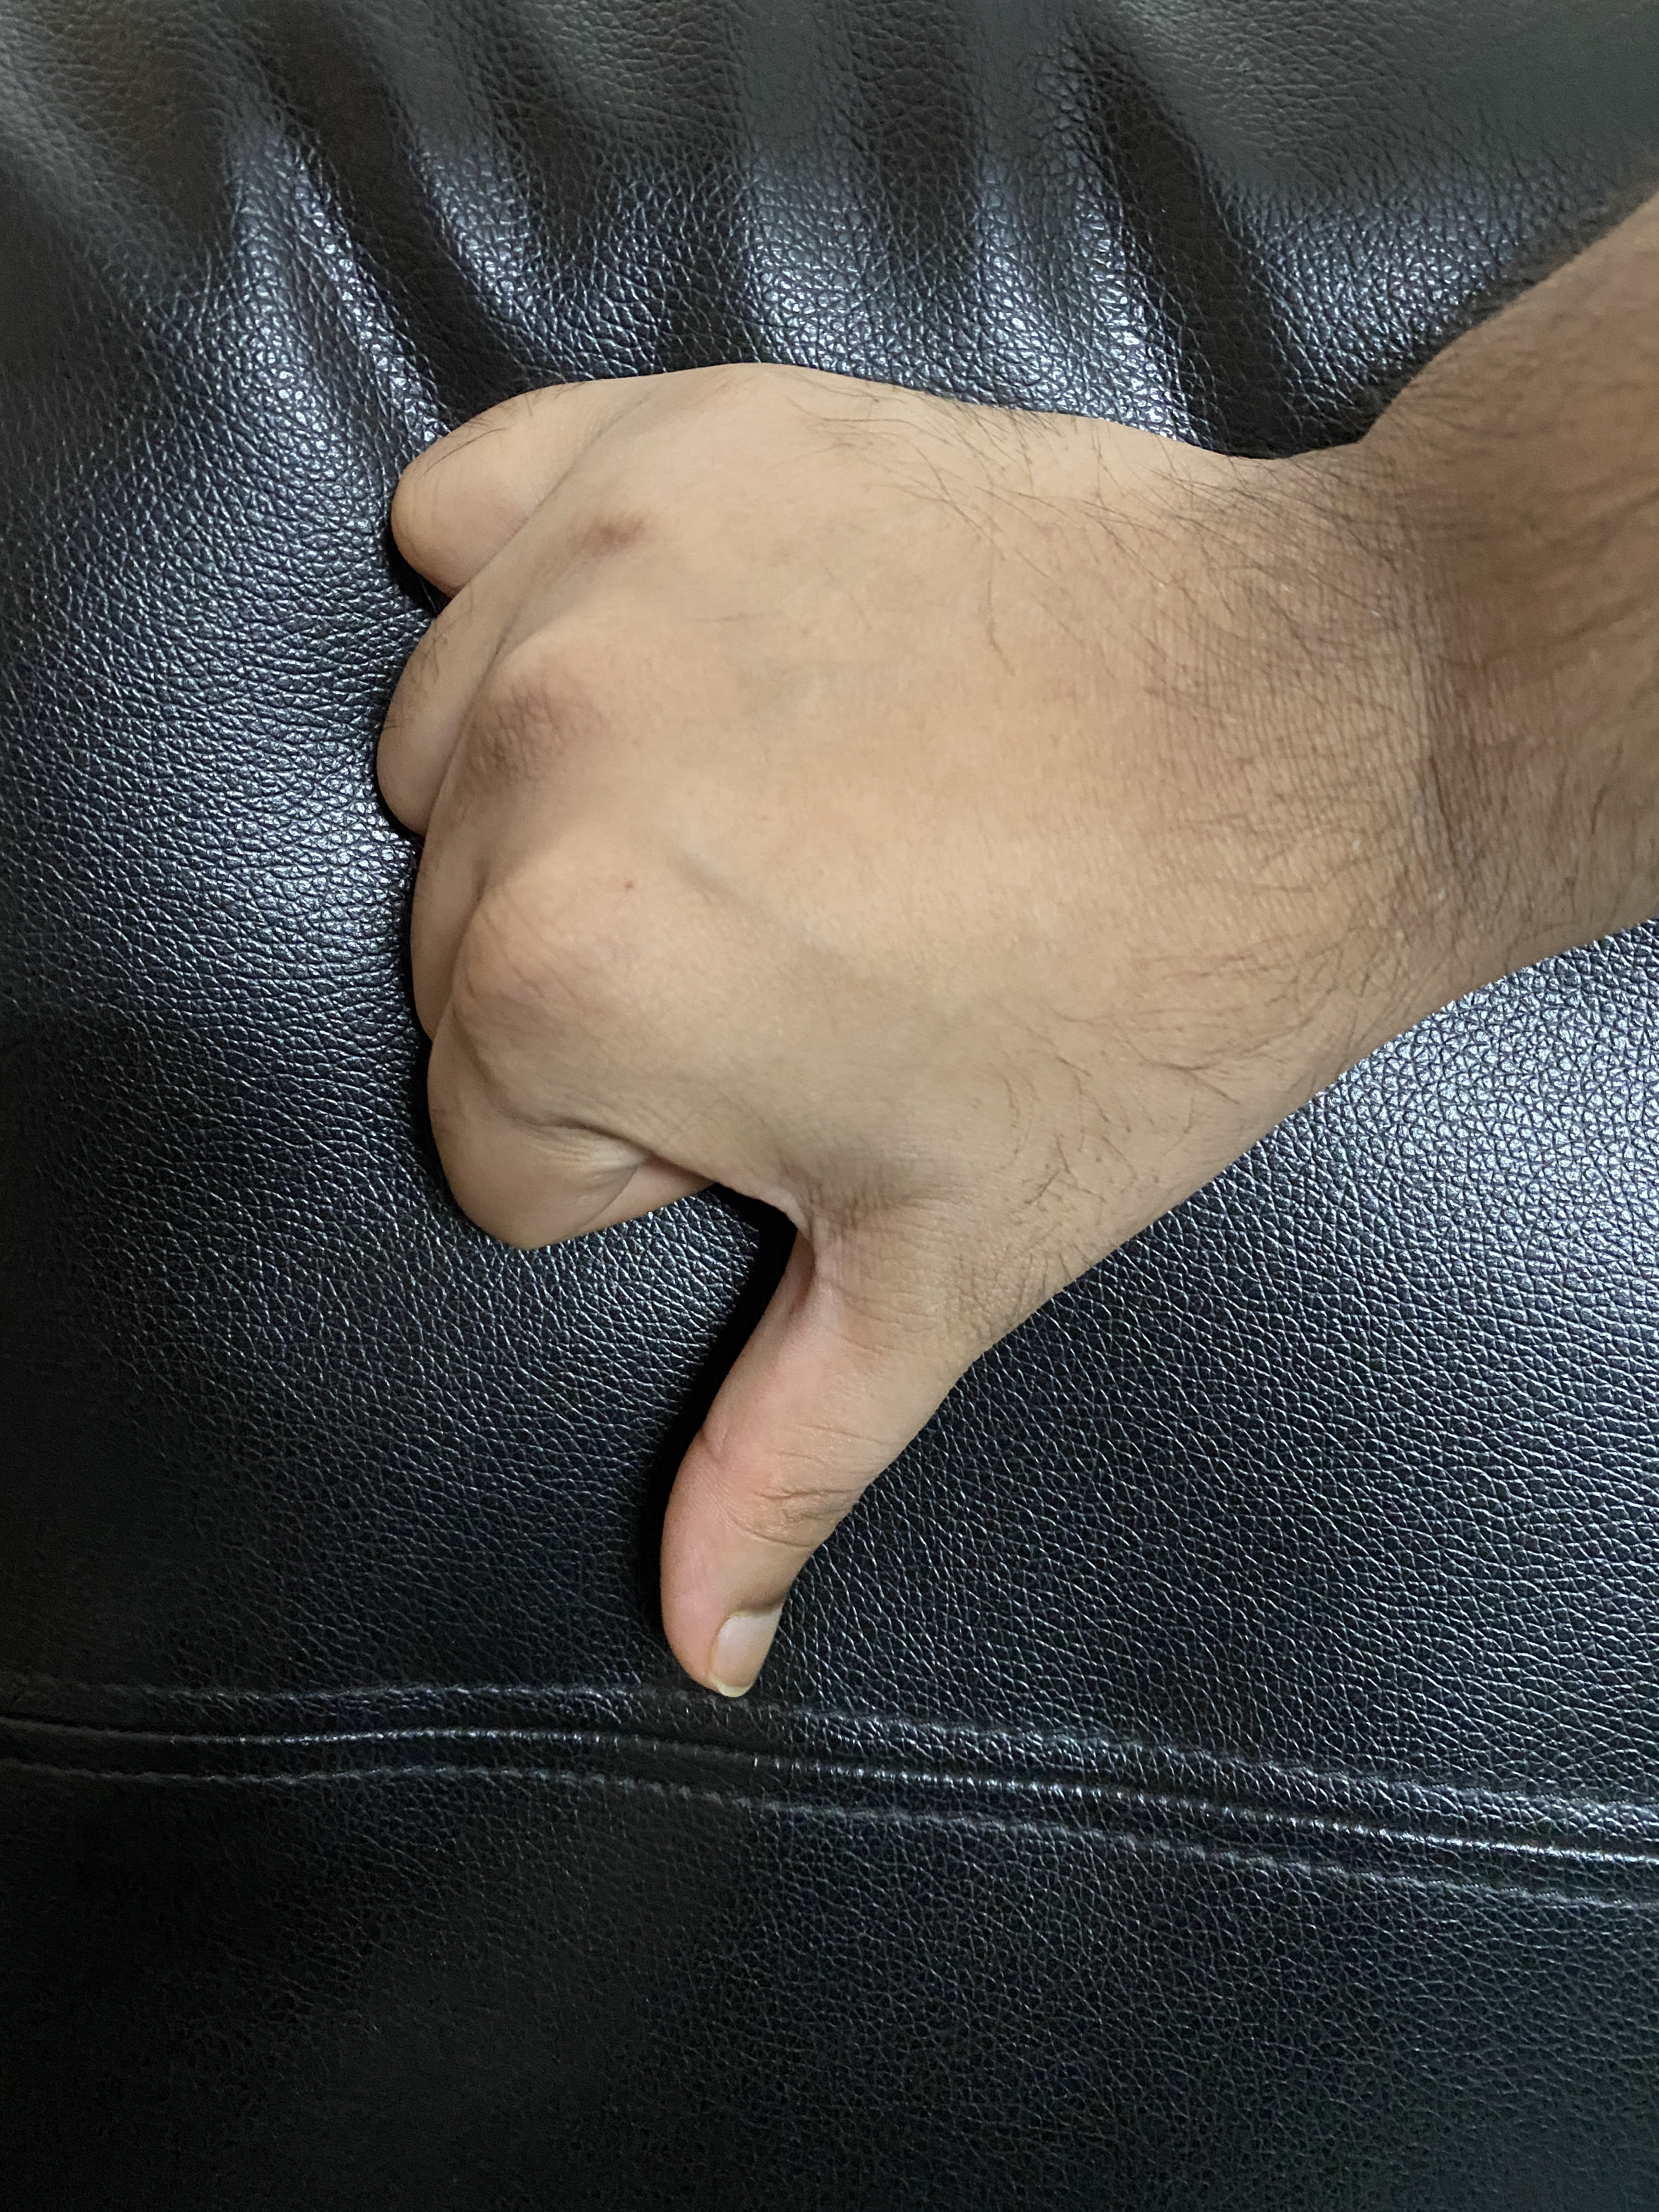down: (176, 185, 1659, 1777)
